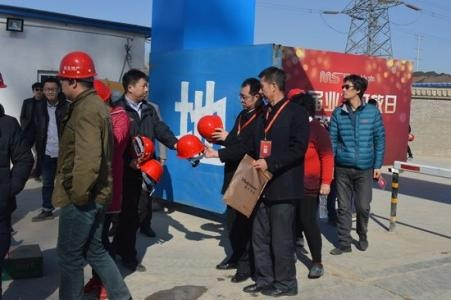none: (259, 66, 284, 102), (120, 68, 147, 101), (239, 77, 261, 109), (341, 75, 366, 103), (42, 77, 60, 102), (31, 81, 43, 98)
red: (59, 50, 97, 99)
